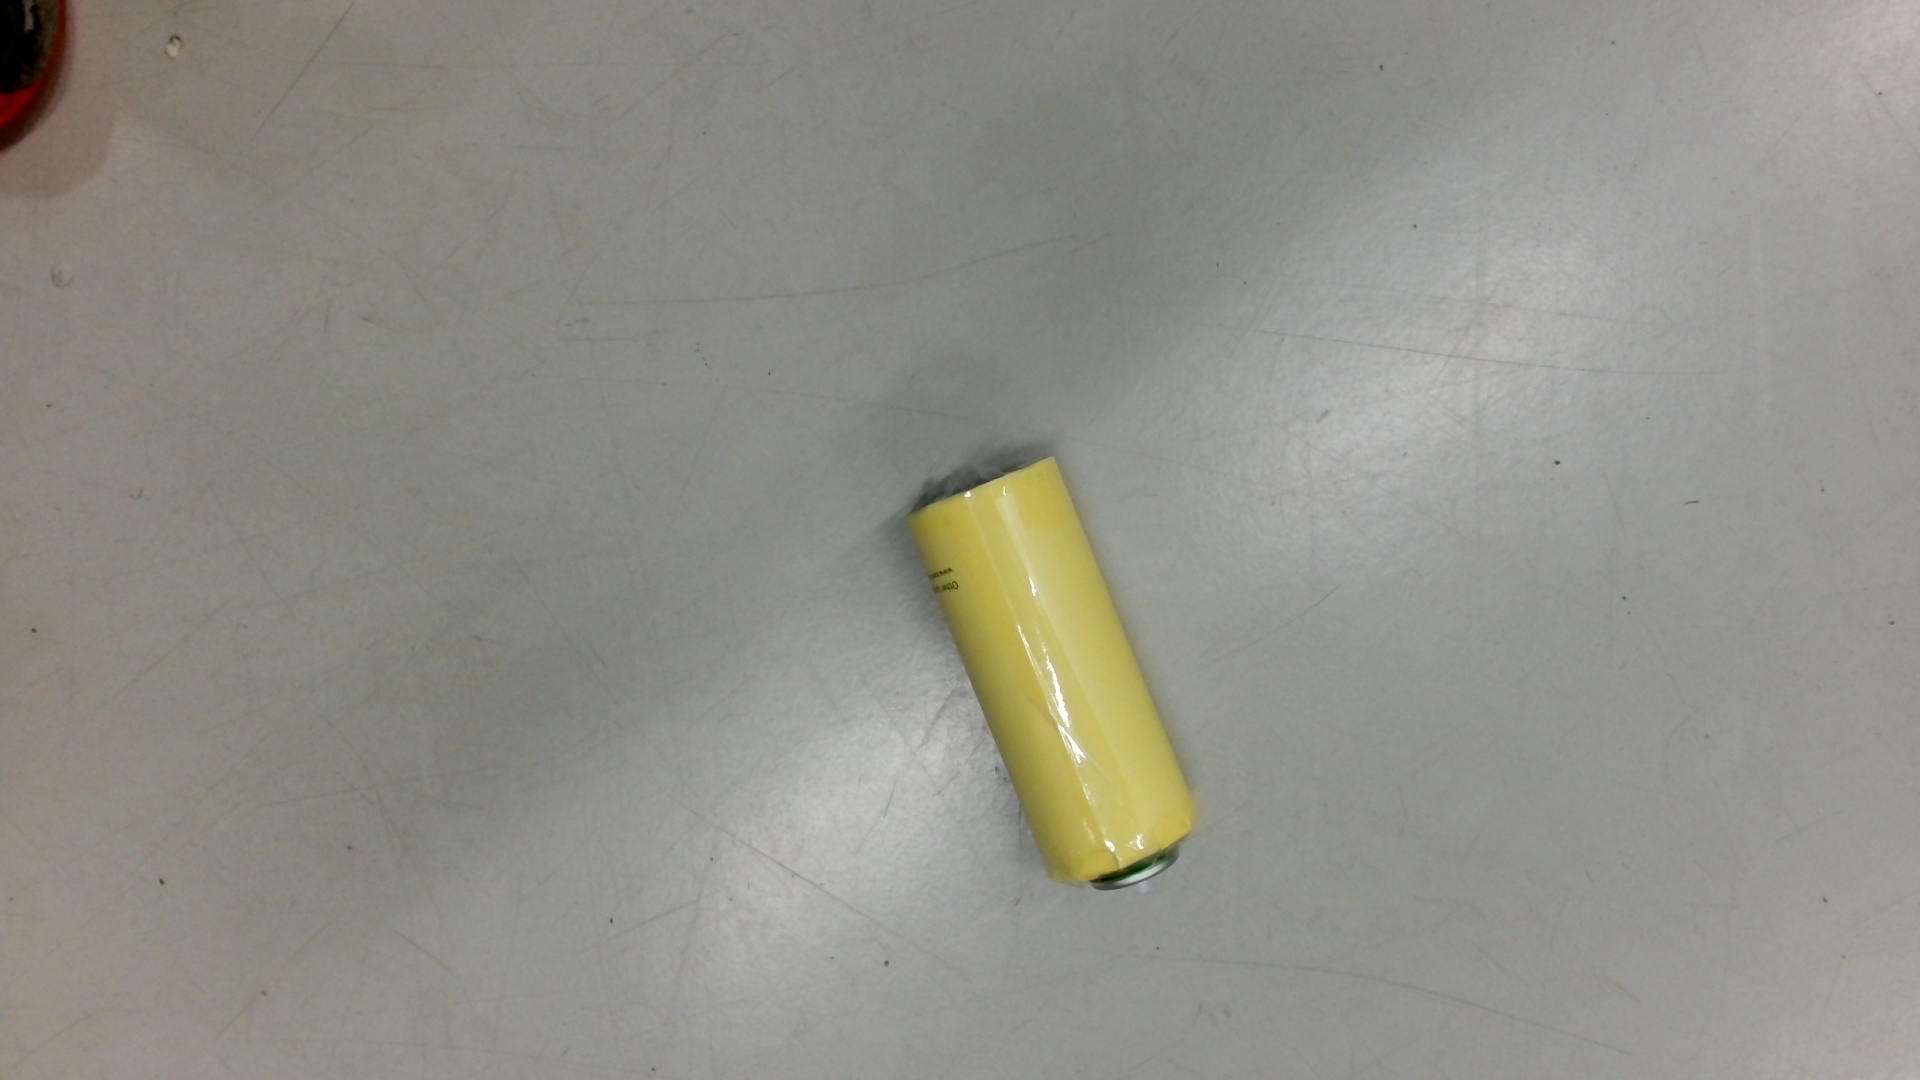Cylinder: (898, 448, 1211, 913)
